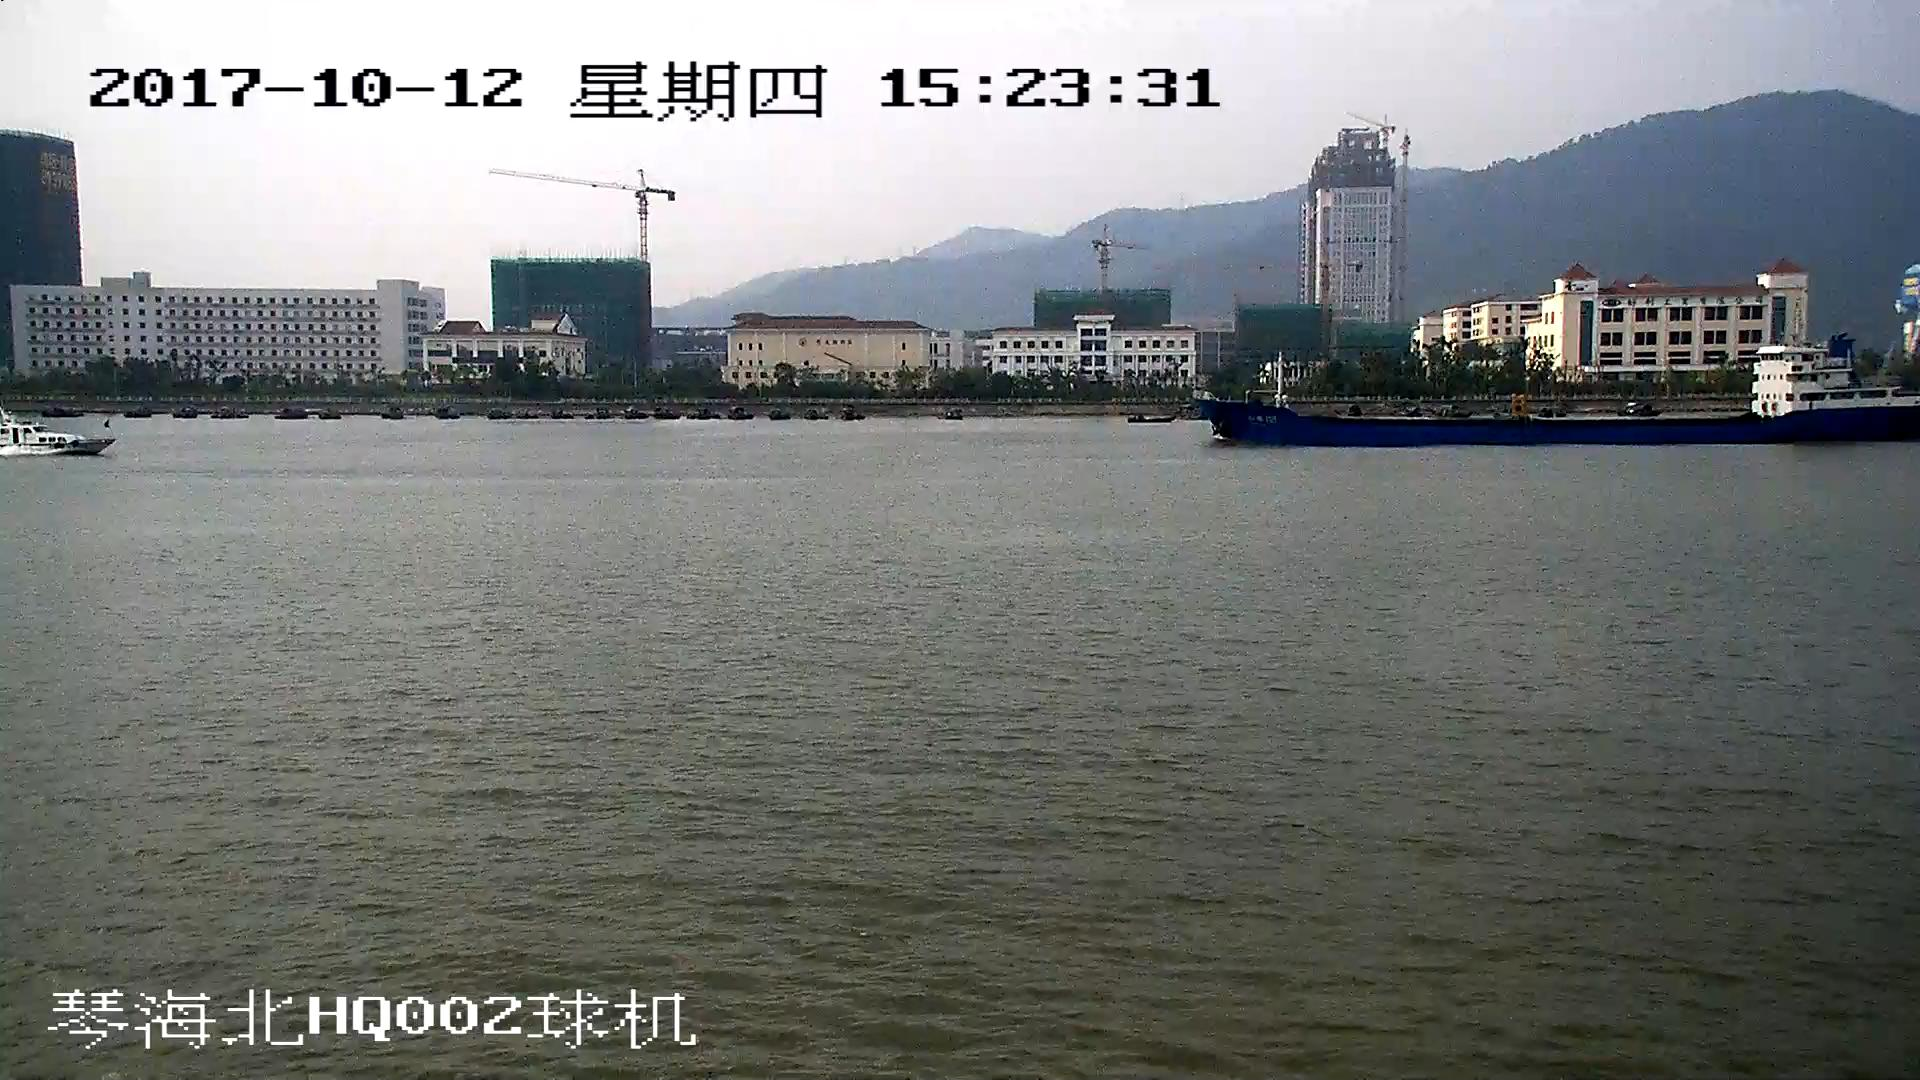bulk cargo carrier: (1194, 324, 1920, 449)
passenger ship: (1, 411, 118, 461)
